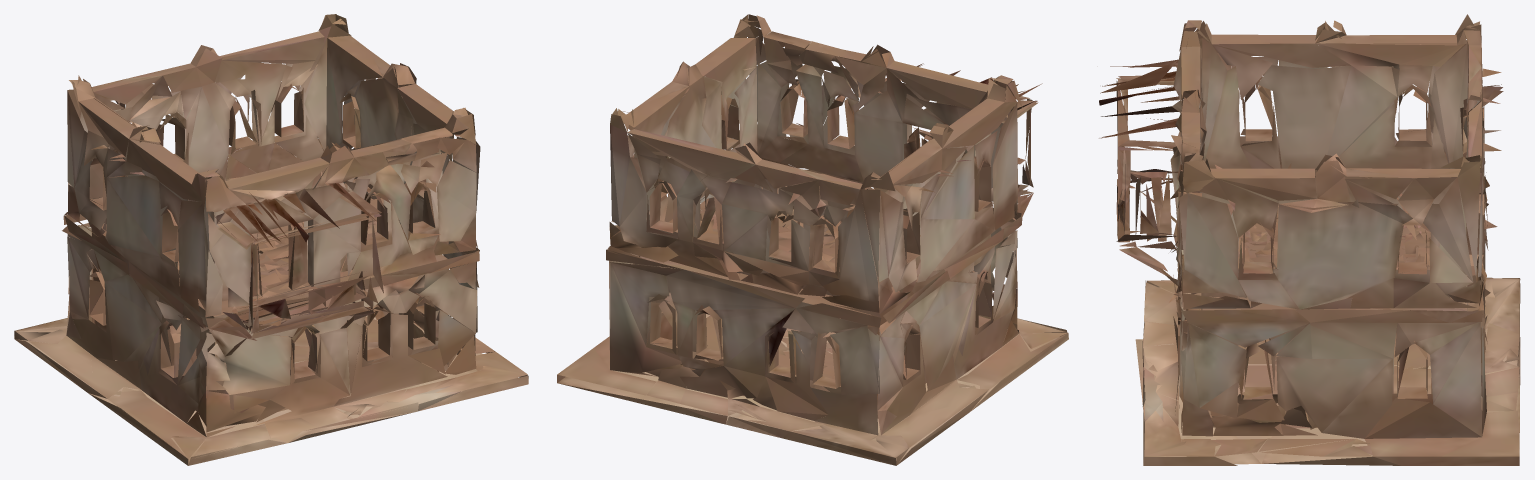
File: adobe_house_b.glb
3 renders of one model, left to right at view 1: azimuth 30°, elevation 25°; view 2: azimuth 150°, elevation 25°; view 3: azimuth 270°, elevation 25°, orthographic. The views are drawn at different scales.
Parts seen in each view (by area): view 1: Mesh_0; view 2: Mesh_0; view 3: Mesh_0.
Boxes of the visible parts, bbox=[...] form: Mesh_0: bbox=[14, 14, 528, 465]; Mesh_0: bbox=[557, 14, 1068, 465]; Mesh_0: bbox=[1099, 14, 1520, 465].
Bounding box in the file's own units: 1.91 × 1.45 × 1.9.
1 material, 1 textured.
